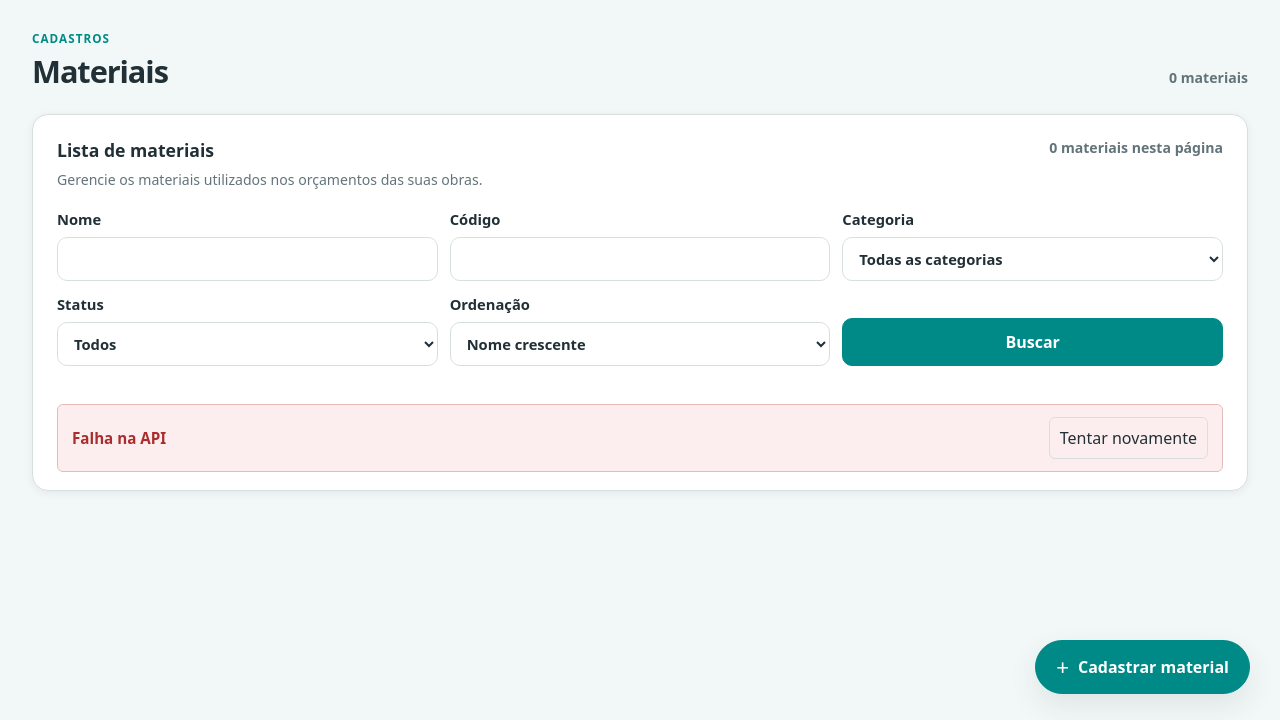
Test: MaterialListPage › recovers from a failed request
This screenshot has width=1280, height=720.
Expected: the heading "Falha na API" is shown, top-left (72, 427), bottom-right (166, 449)
Click the button "Tentar novamente" at x=1128, y=438, box top-left (1049, 417), bottom-right (1208, 459)
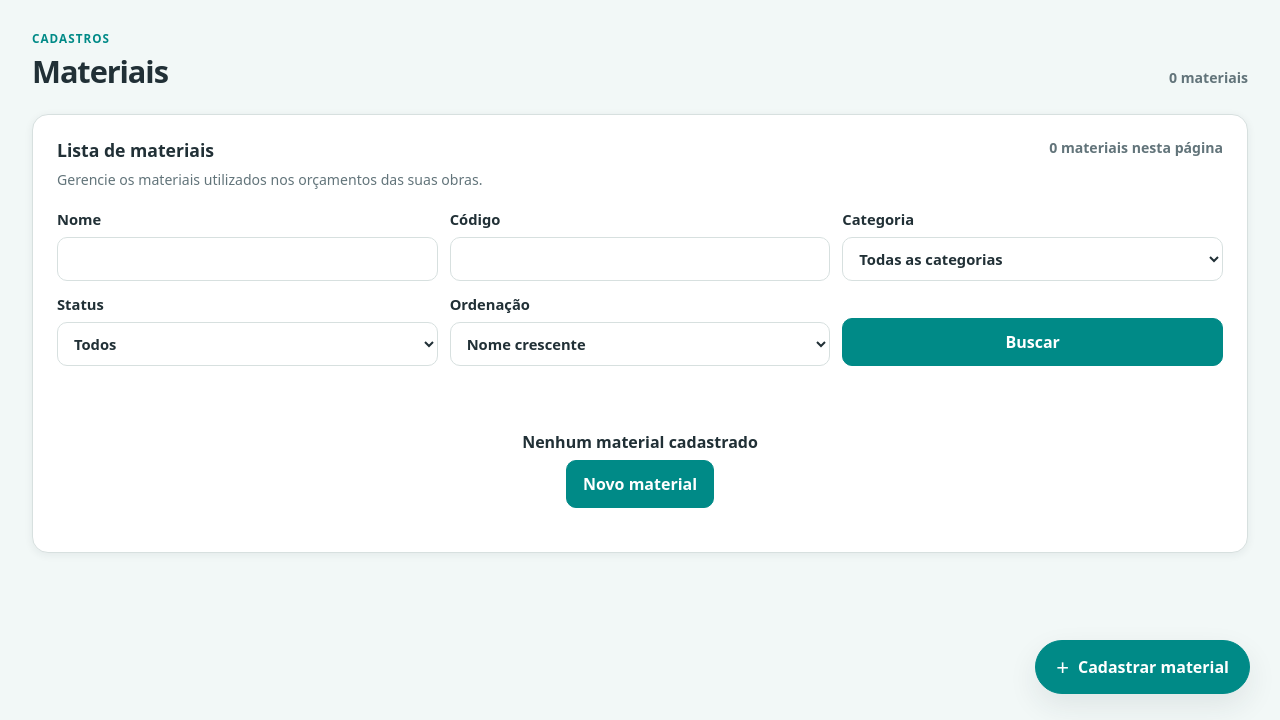
Now the heading "Nenhum material cadastrado" is shown, box top-left (522, 431), bottom-right (758, 453)
